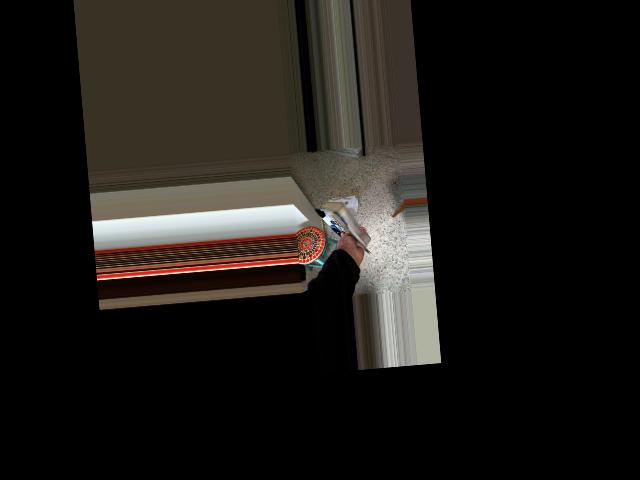cheese: (305, 189, 379, 268)
